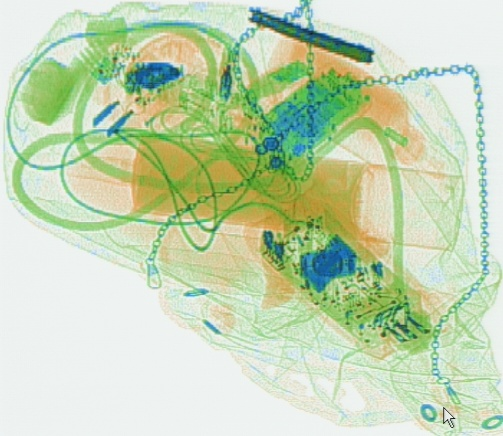knife: (246, 5, 374, 62)
